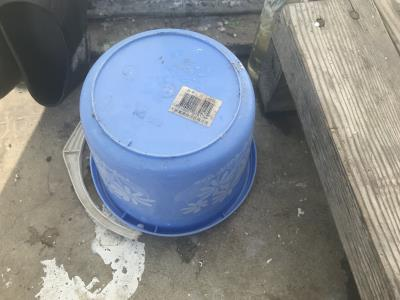bucket: (71, 23, 260, 242)
